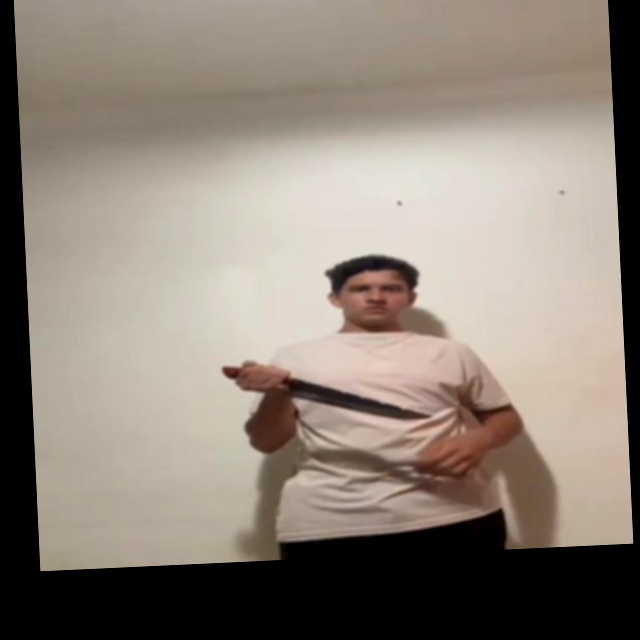Sharp-Object: (287, 373, 431, 426)
